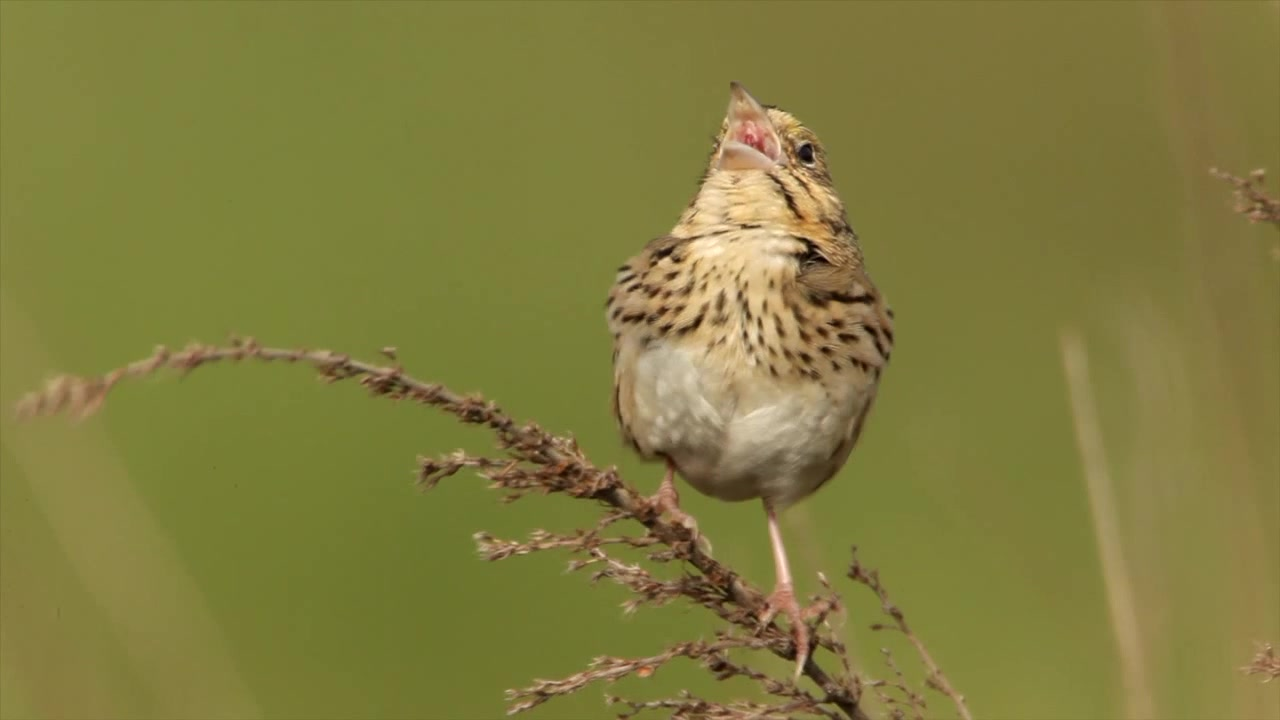bird: (602, 79, 897, 684)
